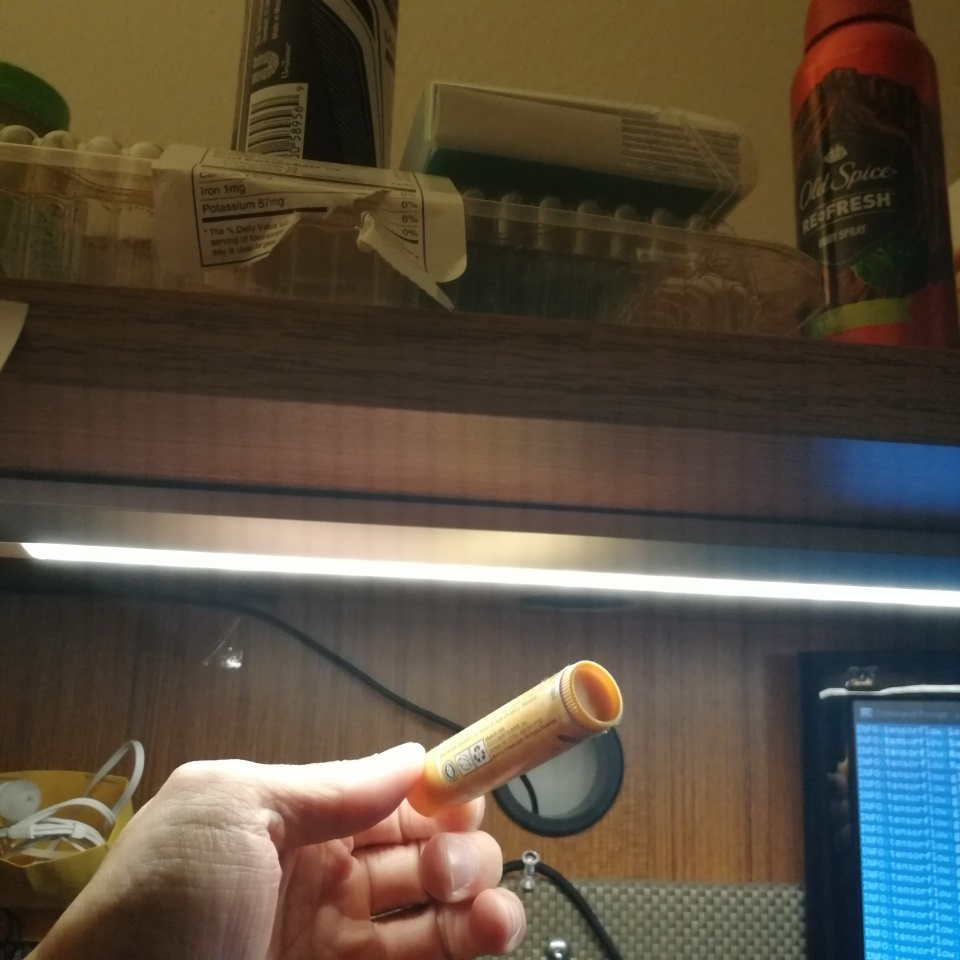chapstick: (404, 659, 625, 819)
